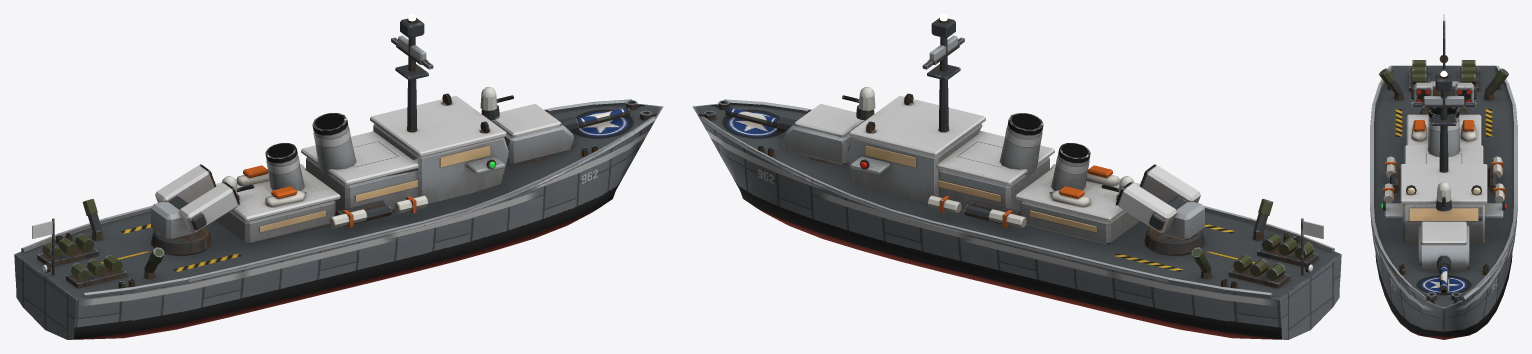
The model's file is dd.allies.glb.
The picture shows the model from 3 angles, left to right: view 1: azimuth 30°, elevation 25°; view 2: azimuth 150°, elevation 25°; view 3: azimuth 270°, elevation 25°; orthographic projection. The views are drawn at different scales.
Visible parts, largest first — view 1: hull_mesh, fgun_mesh, arm_mesh, turret_mesh, fb0_mesh; view 2: hull_mesh, fgun_mesh, arm_mesh, turret_mesh, fb0_mesh; view 3: hull_mesh, fgun_mesh, arm_mesh, radar_mesh, fb0_mesh, turret_mesh.
Part boxes in pixels (left/top/right/bottom): hull_mesh: left=14, top=14, right=663, bottom=339; fgun_mesh: left=490, top=103, right=574, bottom=165; arm_mesh: left=155, top=164, right=240, bottom=233; turret_mesh: left=151, top=201, right=211, bottom=255; fb0_mesh: left=558, top=107, right=630, bottom=133; hull_mesh: left=692, top=14, right=1341, bottom=339; fgun_mesh: left=781, top=103, right=865, bottom=165; arm_mesh: left=1115, top=164, right=1200, bottom=233; turret_mesh: left=1144, top=201, right=1204, bottom=255; fb0_mesh: left=725, top=107, right=797, bottom=133; hull_mesh: left=1370, top=14, right=1517, bottom=339; fgun_mesh: left=1418, top=221, right=1469, bottom=270; arm_mesh: left=1411, top=82, right=1476, bottom=102; radar_mesh: left=1422, top=96, right=1465, bottom=107; fb0_mesh: left=1437, top=255, right=1450, bottom=293; turret_mesh: left=1419, top=81, right=1468, bottom=114.
Bounding box in the file's own units: 1.53 × 0.556 × 0.3604.
2 materials, 1 textured.
